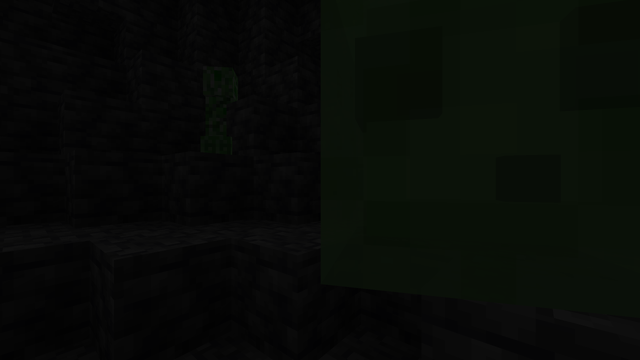creepers: (198, 58, 244, 140)
slimes: (290, 1, 627, 323)
